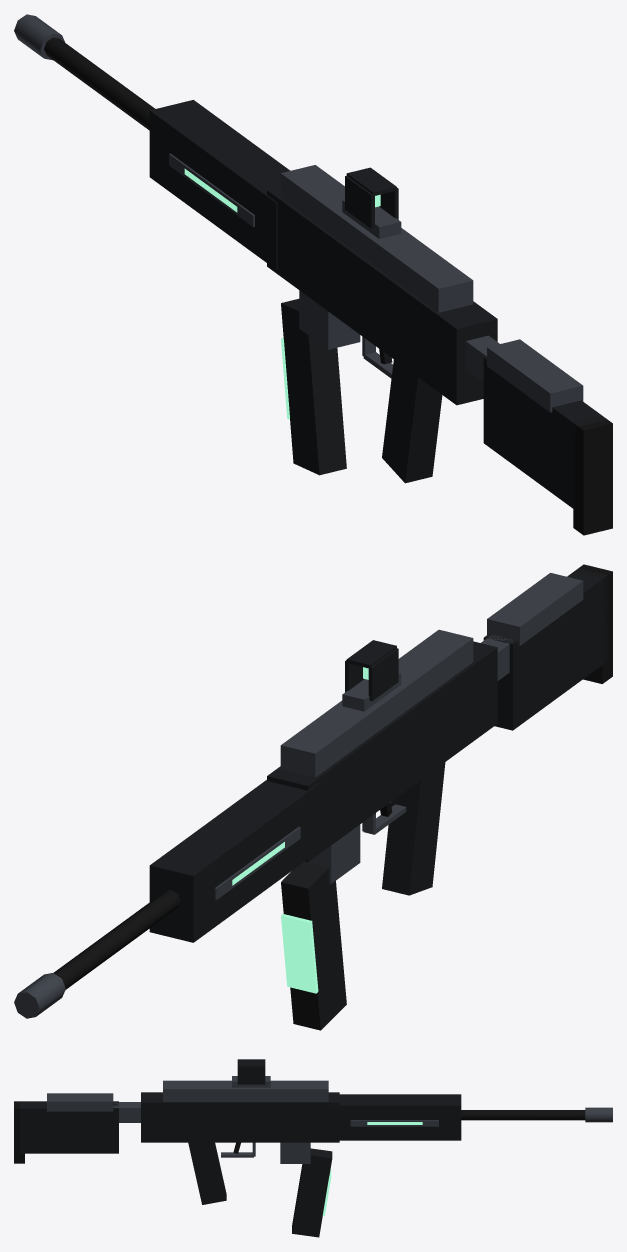
File: ARC-7_Assault_Rifle.glb
3 renders of one model, top to bottom at view 1: azimuth 30°, elevation 25°; view 2: azimuth 150°, elevation 25°; view 3: azimuth 270°, elevation 25°, orthographic. The views are drawn at different scales.
Visible parts, largest first — view 1: ARC-7_Assault_Rifle; view 2: ARC-7_Assault_Rifle; view 3: ARC-7_Assault_Rifle.
Part boxes in pixels (<box>): ARC-7_Assault_Rifle: <box>14,14,612,535</box>; ARC-7_Assault_Rifle: <box>14,564,612,1030</box>; ARC-7_Assault_Rifle: <box>14,1059,612,1237</box>.
Bounding box in the file's own units: 0.0524 × 0.3428 × 1.09.
